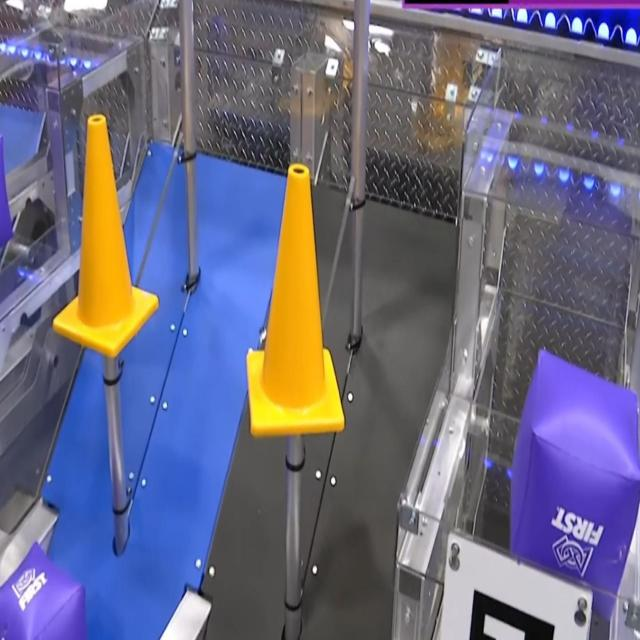frc_cone: (46, 104, 161, 353), (250, 163, 345, 433)
frc_cube: (504, 347, 640, 629), (0, 544, 92, 640), (0, 130, 18, 263)
